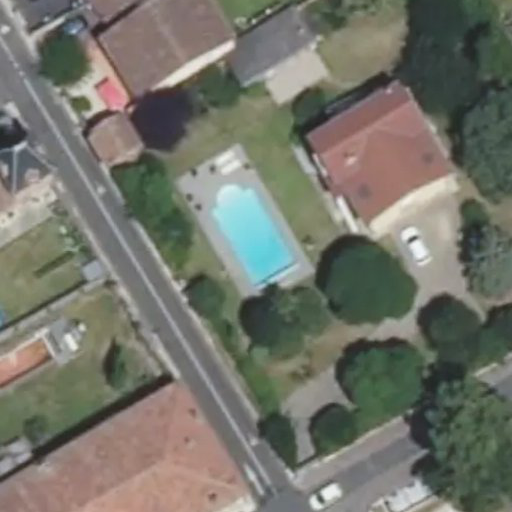pool: (204, 203, 302, 269)
